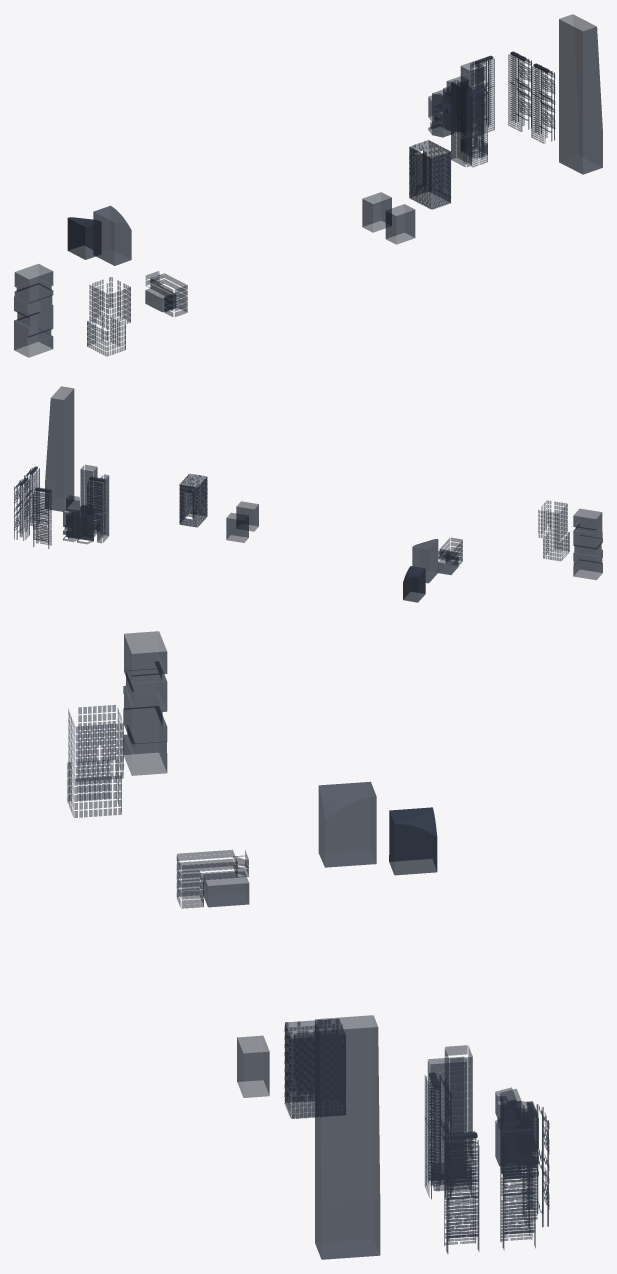
The model's file is Glass Dark Five.FBX.
3 renders of one model, top to bottom at view 1: azimuth 30°, elevation 25°; view 2: azimuth 150°, elevation 25°; view 3: azimuth 270°, elevation 25°, orthographic. The views are drawn at different scales.
Visible parts, largest first — view 1: Glass Dark Five, Transluc (×2), Line003, Line004, Line008, _Trans02, Line005; view 2: Glass Dark Five, Transluc (×2), Line005, Line004, Line003, Line008, _Trans02; view 3: Glass Dark Five, Transluc (×2), Line004, Line003, Line008, Line005, _Trans02.
Boxes of the visible parts, x1,y1,x2,y2 form: Glass Dark Five: (14,14,602,357); Transluc (×2): (87,61,483,356); Line003: (531,63,555,143); Line004: (508,51,531,131); Line008: (463,88,487,167); _Trans02: (385,204,415,244); Line005: (470,55,494,132); Glass Dark Five: (45,386,602,602); Transluc (×2): (80,464,569,561); Line005: (33,487,51,549); Line004: (14,477,29,540); Line003: (24,466,39,529); Line008: (87,477,105,537); _Trans02: (236,501,258,531); Glass Dark Five: (123,631,538,1259); Transluc (×2): (67,704,472,1197); Line004: (500,1127,535,1250); Line003: (444,1131,479,1253); Line008: (424,1072,451,1199); Line005: (522,1101,549,1227); _Trans02: (237,1035,269,1097).
Size of the model in its own units: 1170 by 250 by 488.
